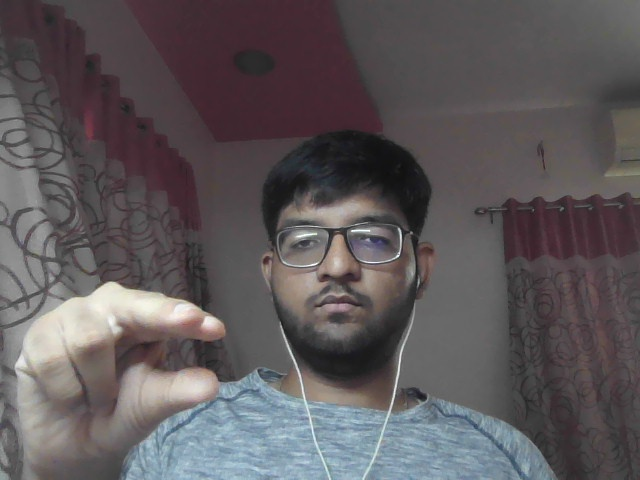ના: (5, 277, 242, 456)
